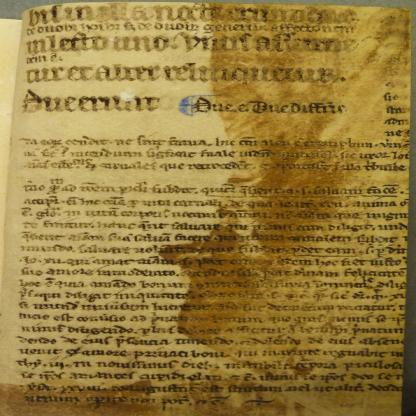book: (7, 0, 411, 416)
